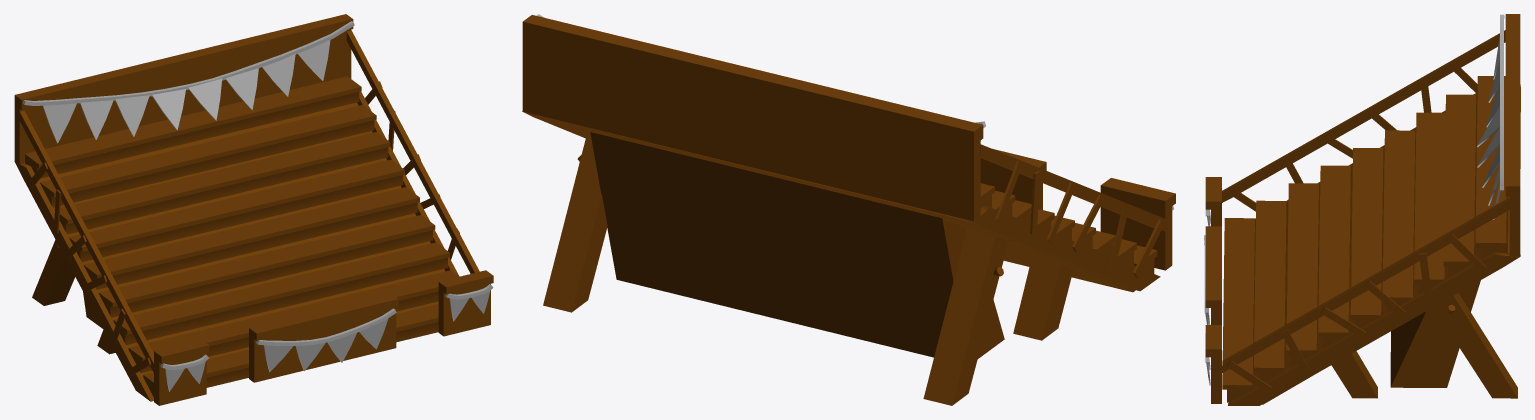
File: audience_seating.fbx
The picture shows the model from 3 angles, left to right: view 1: azimuth 30°, elevation 25°; view 2: azimuth 150°, elevation 25°; view 3: azimuth 270°, elevation 25°; orthographic projection. The views are drawn at different scales.
Visible parts, largest first — view 1: seat_assemb, back_board, front_board, side_assemb, top_flag_assemb, middle_flag_assemb, support_assemb, side_flag_assemb; view 2: support_assemb, back_board, side_assemb, seat_assemb, front_board; view 3: seat_assemb, side_assemb, support_assemb, back_board, front_board, top_flag_assemb.
Boxes of the visible parts, x1,y1,x2,y2 form: seat_assemb: [23, 76, 459, 397]; back_board: [14, 14, 353, 163]; front_board: [154, 270, 493, 405]; side_assemb: [14, 30, 479, 401]; top_flag_assemb: [22, 21, 354, 143]; middle_flag_assemb: [256, 308, 396, 372]; support_assemb: [32, 240, 115, 354]; side_flag_assemb: [160, 284, 493, 391]; support_assemb: [543, 132, 1073, 405]; back_board: [522, 15, 983, 221]; side_assemb: [522, 111, 1165, 291]; seat_assemb: [530, 113, 1157, 292]; front_board: [980, 149, 1175, 270]; seat_assemb: [1222, 76, 1520, 404]; side_assemb: [1222, 30, 1520, 405]; support_assemb: [1331, 280, 1517, 398]; back_board: [1505, 14, 1520, 256]; front_board: [1205, 177, 1221, 403]; top_flag_assemb: [1477, 14, 1504, 219].
Size of the model in its own units: 482 by 285 by 370.
